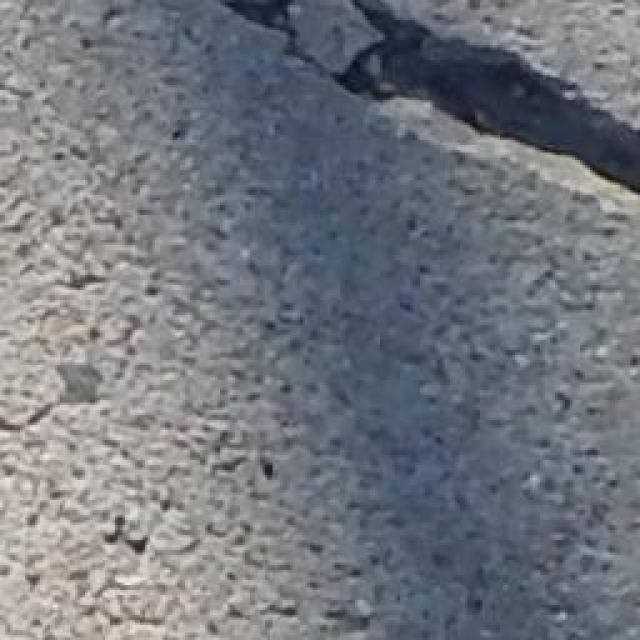concrete-crack: (216, 0, 640, 205)
